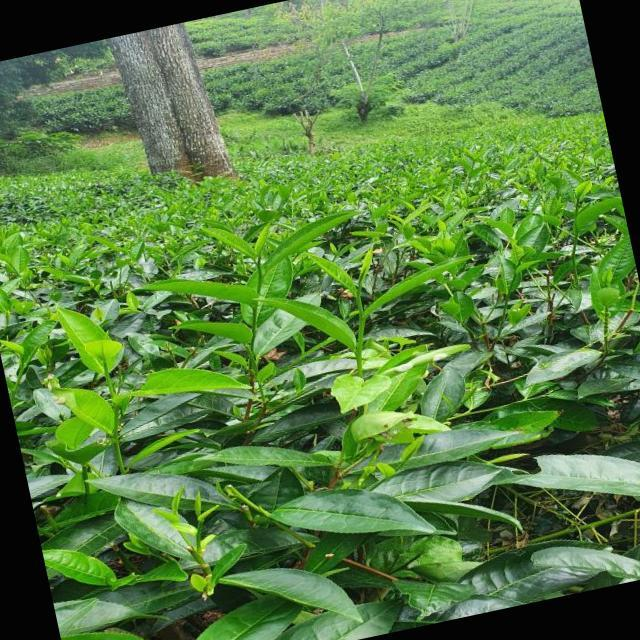Stem: (358, 319, 366, 336), (257, 276, 264, 290), (104, 373, 111, 382), (575, 207, 578, 216)
